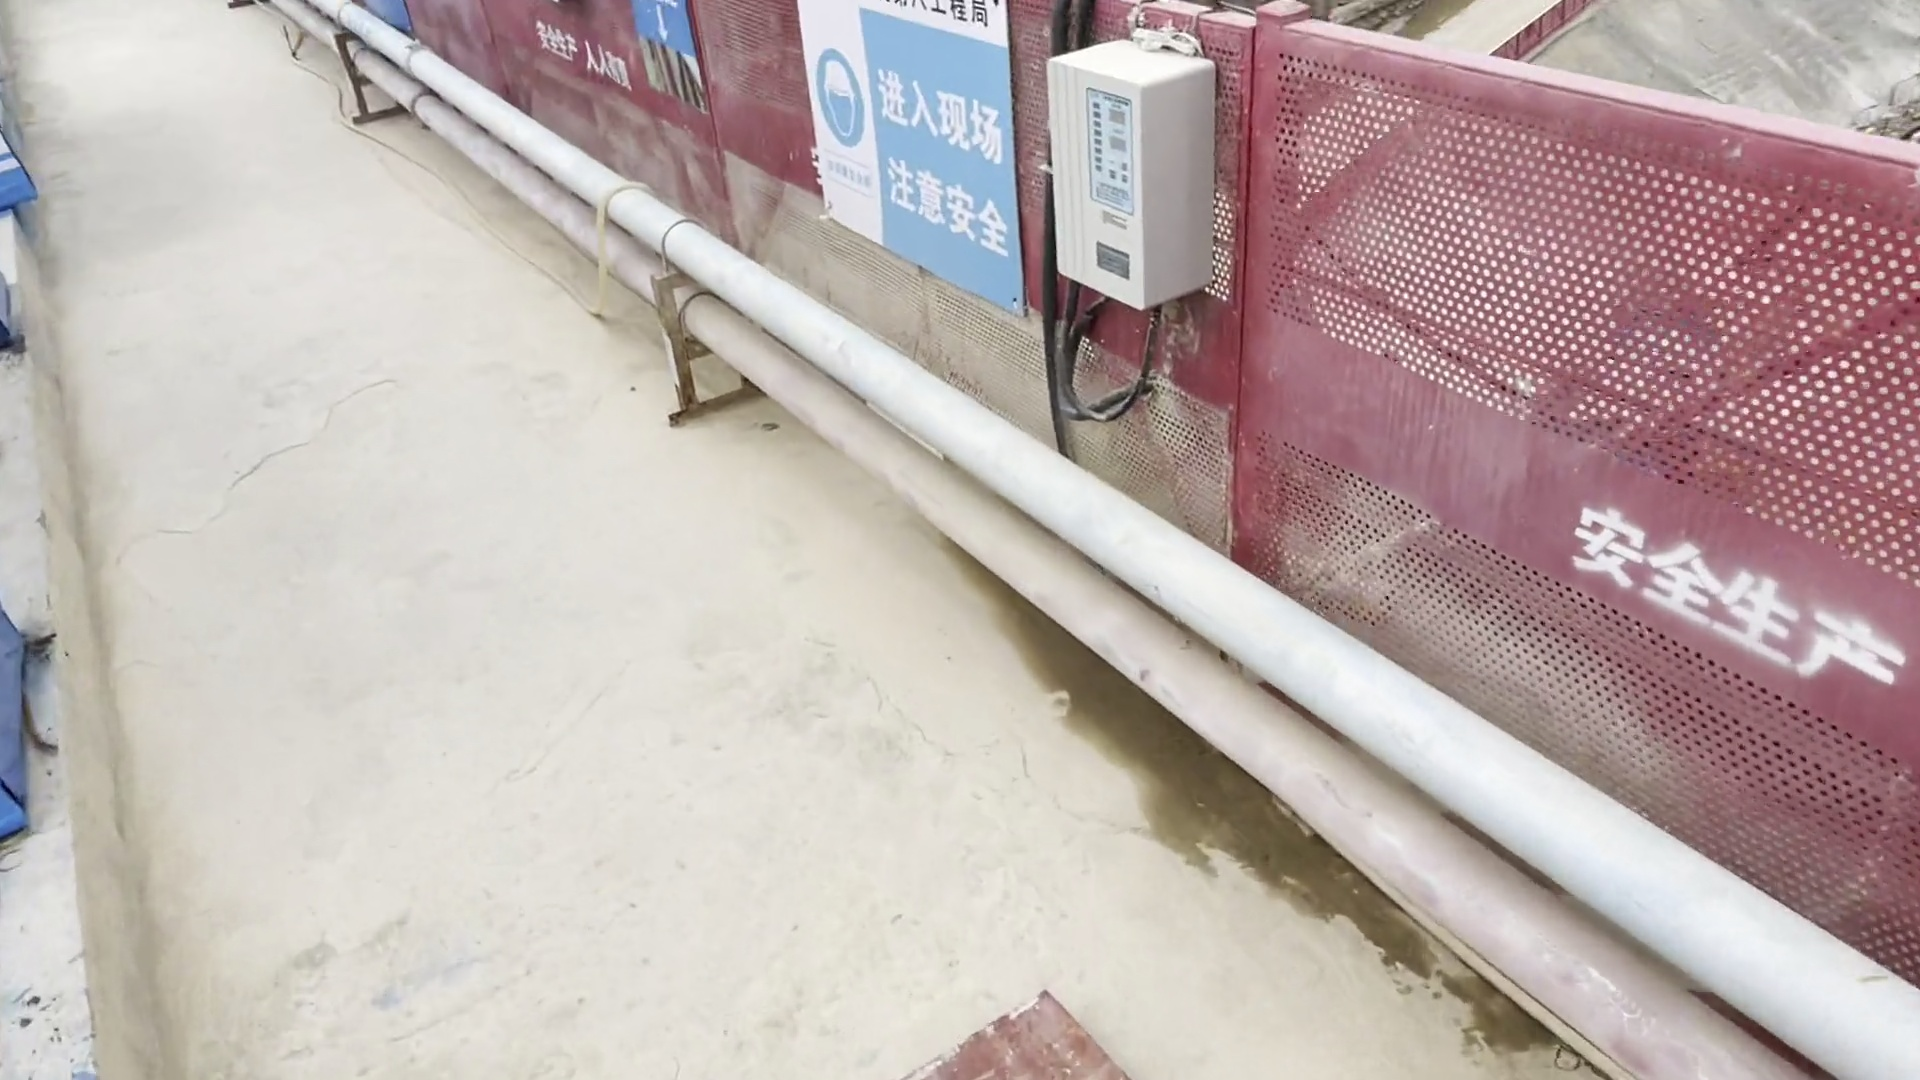ebox: (1033, 12, 1258, 454)
fence: (1249, 3, 1920, 980)
slogan: (791, 1, 1034, 324)
